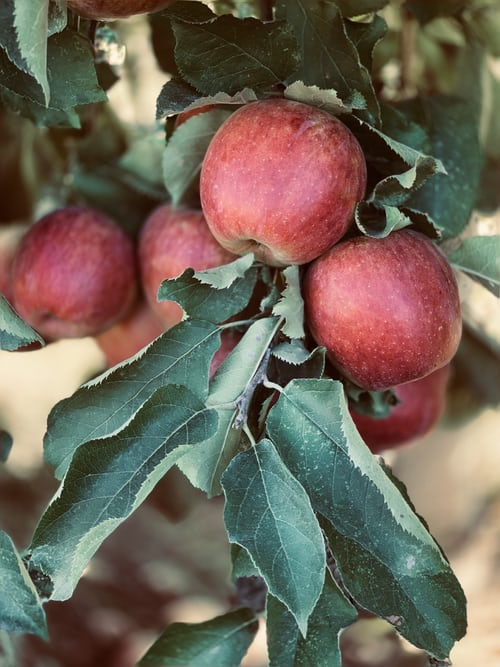apple: (198, 95, 372, 267), (302, 227, 463, 390), (4, 204, 140, 339), (135, 189, 244, 338)
